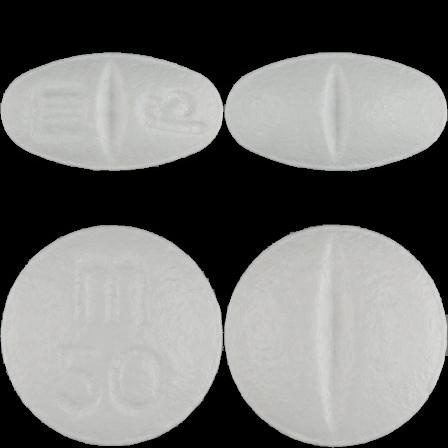49884-404: (0, 0, 224, 224)
